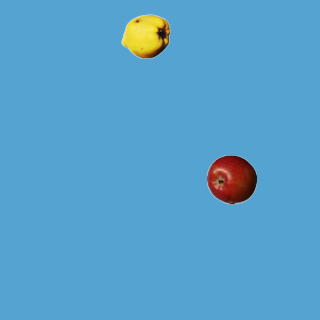Apple Braeburn: (206, 154, 256, 204)
Quince: (120, 11, 170, 61)
